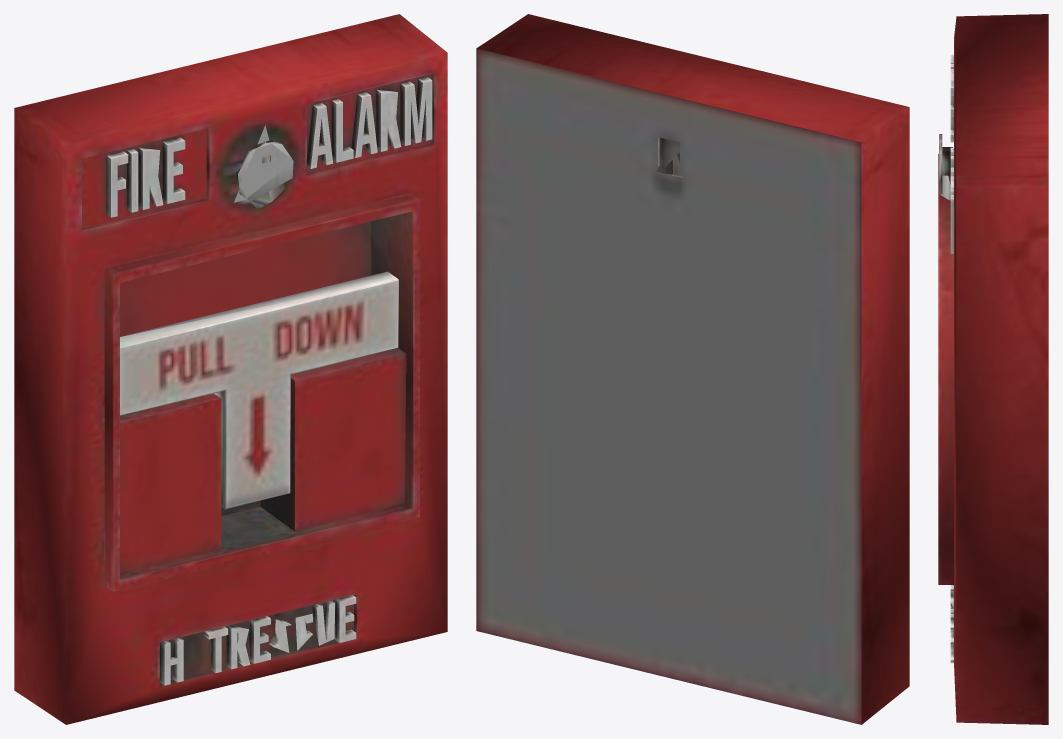
The model's file is fire_alarm.glb.
3 renders of one model, left to right at view 1: azimuth 30°, elevation 25°; view 2: azimuth 150°, elevation 25°; view 3: azimuth 270°, elevation 25°, orthographic. The views are drawn at different scales.
Parts seen in each view (by area): view 1: fire_alarm, fire_alarm_lever; view 2: fire_alarm; view 3: fire_alarm.
Boxes of the visible parts, x1,y1,x2,y2 form: fire_alarm: [14, 14, 447, 724]; fire_alarm_lever: [120, 271, 398, 509]; fire_alarm: [476, 14, 909, 724]; fire_alarm: [938, 14, 1048, 724].
Bounding box in the file's own units: 0.0984 × 0.1422 × 0.0264.
1 material, 1 textured.
